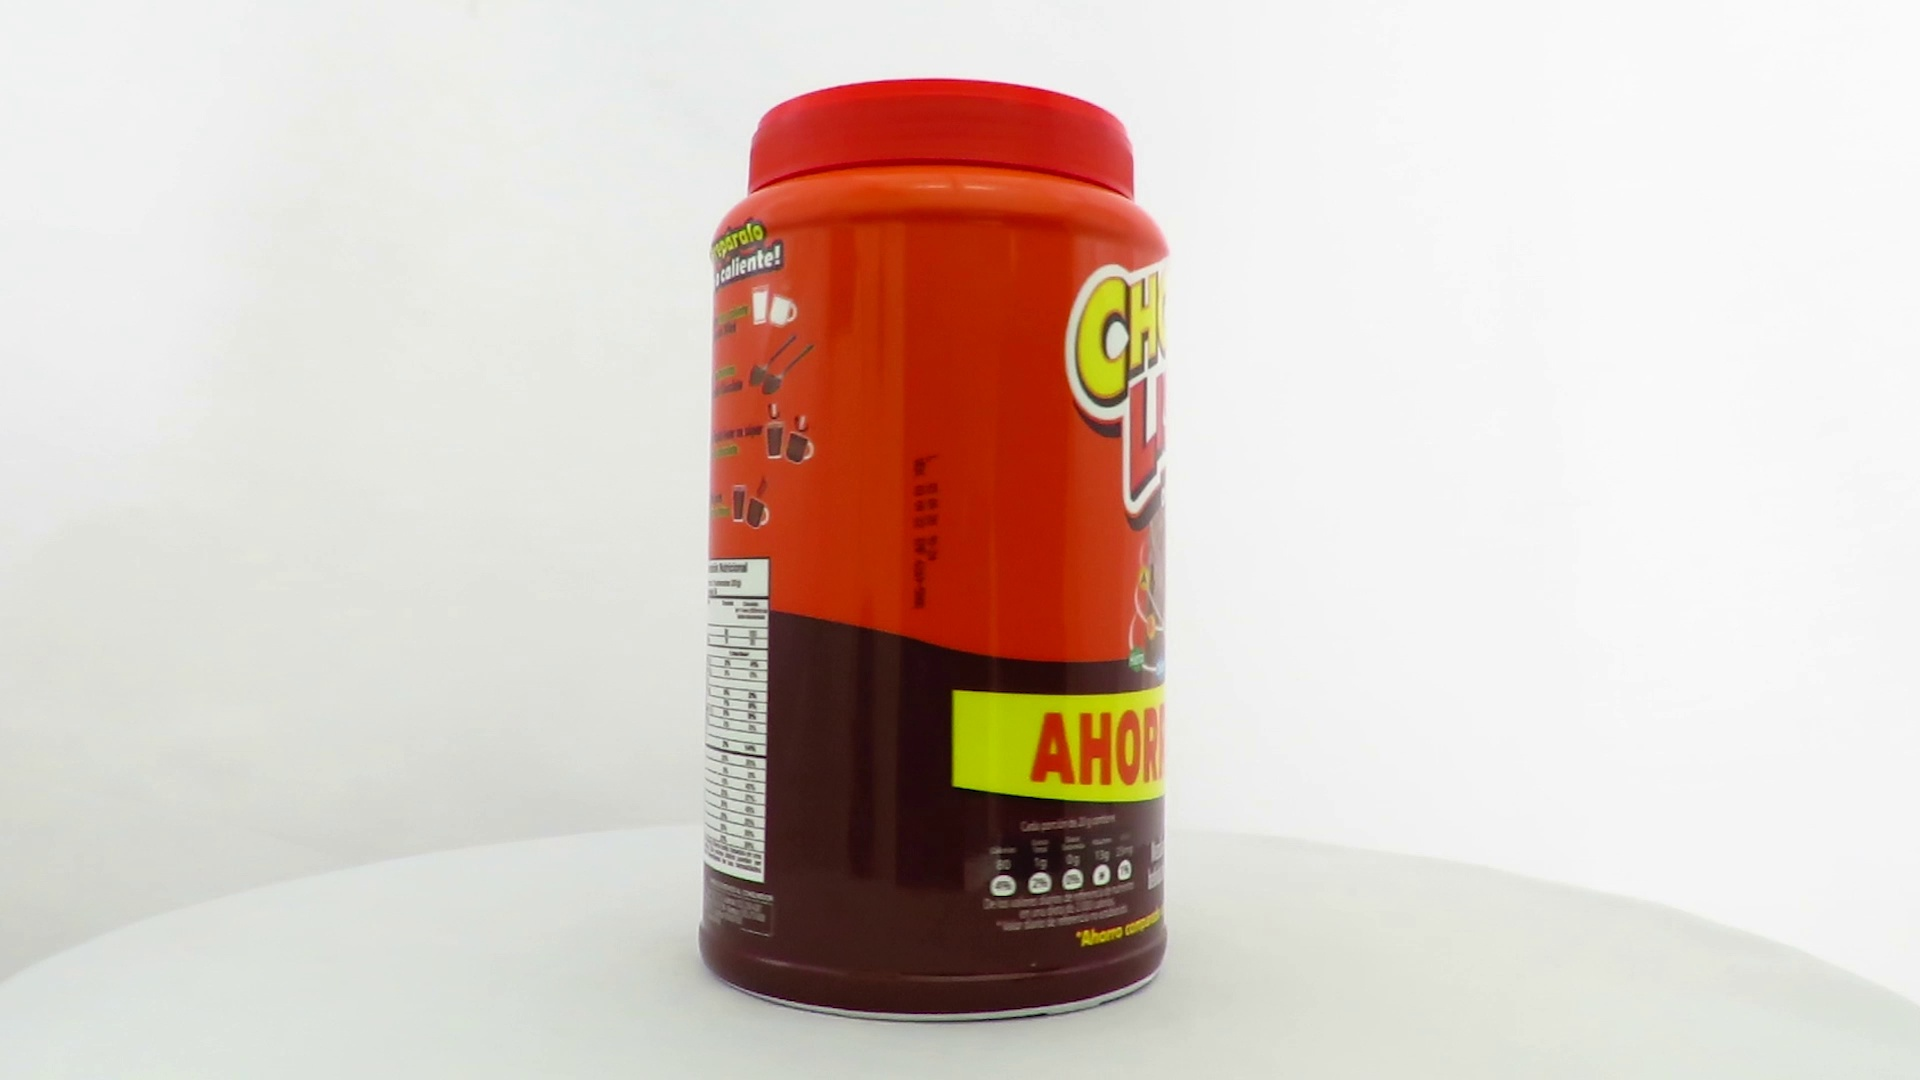COL0170103TRR00100: (694, 73, 1174, 1030)
